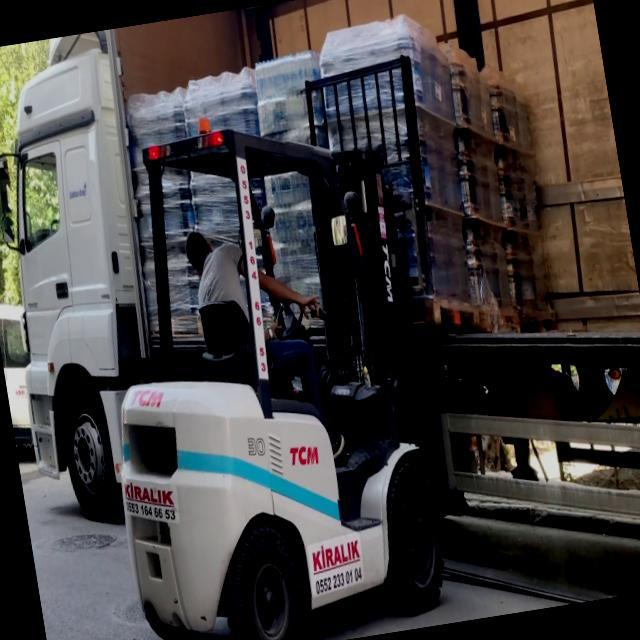driver: (177, 207, 323, 390)
forklift: (55, 86, 465, 640)
